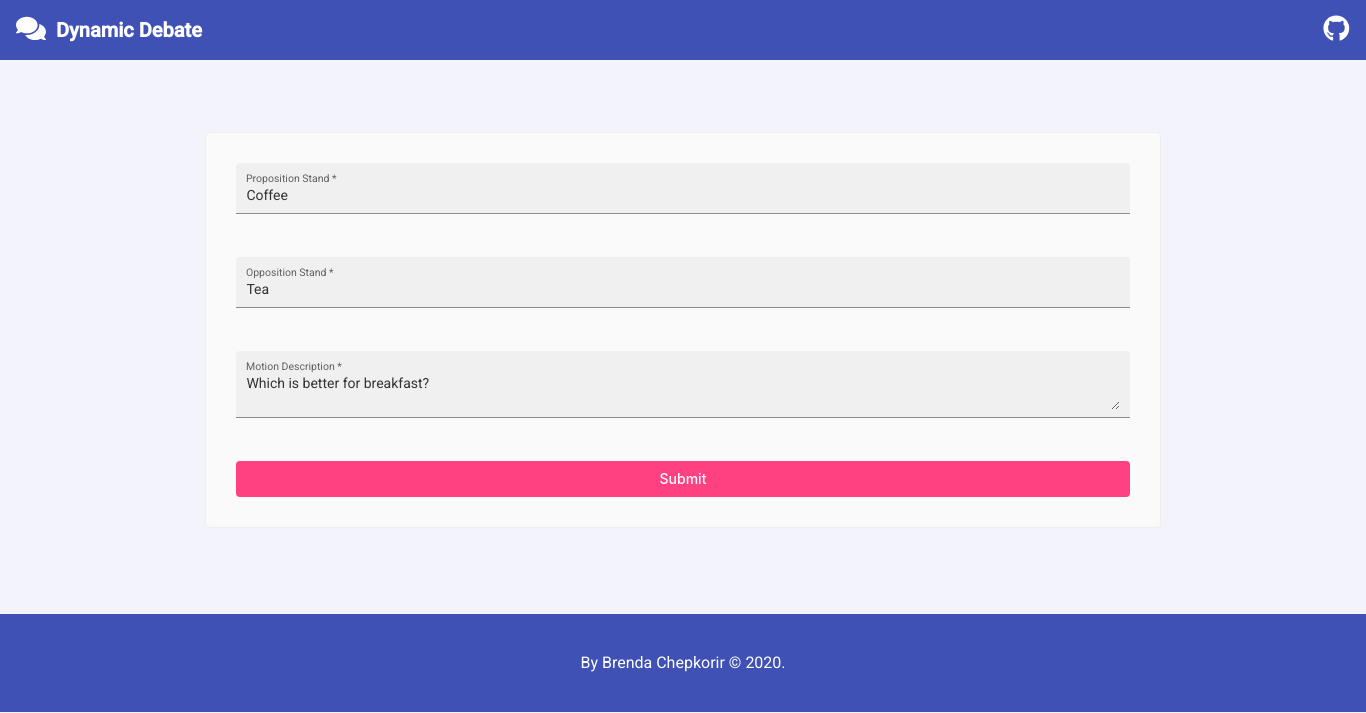
Debate app should › allow a user to pause the timer
Click the button with id "submit" at (683, 479), box [236, 461, 1130, 497]
(page scrolled)
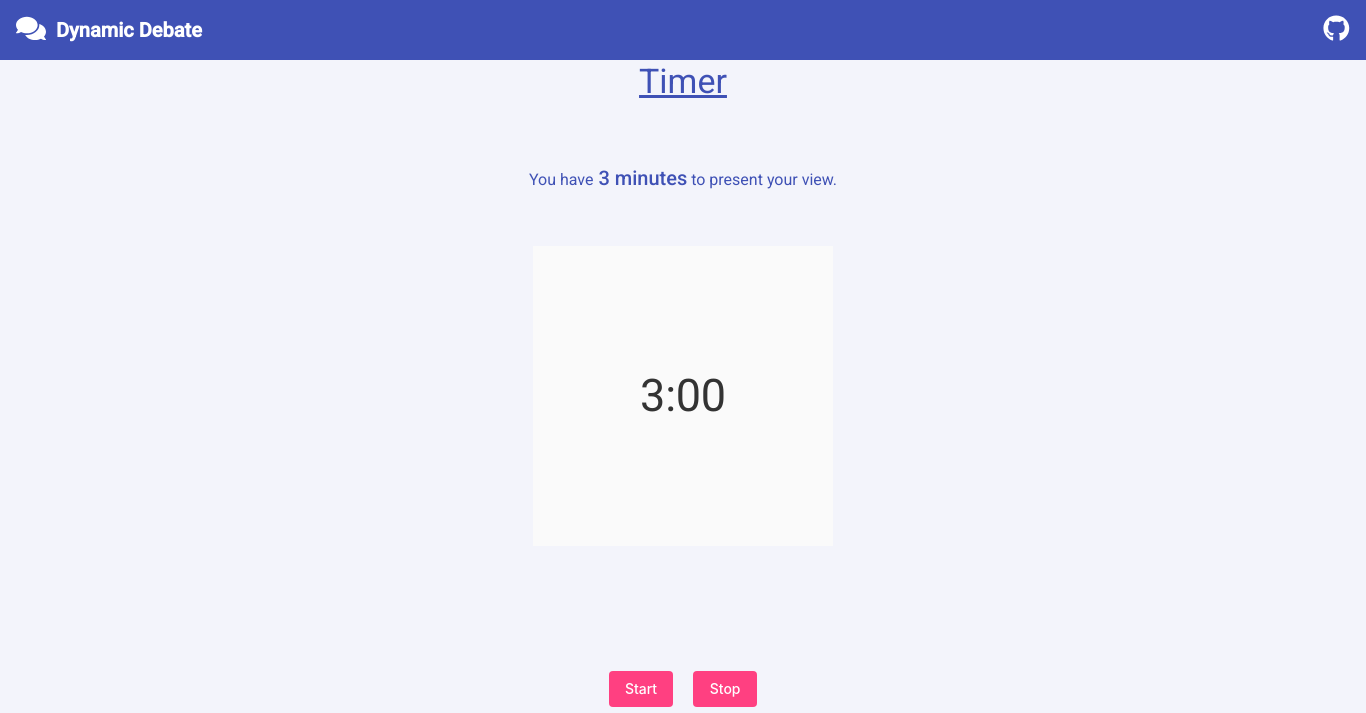
Result: the text with class "timer" reads "3:00" at [640, 369, 726, 422]
Result: the button "Start" is shown
Click the button "Start" at (641, 689), box [609, 671, 673, 707]
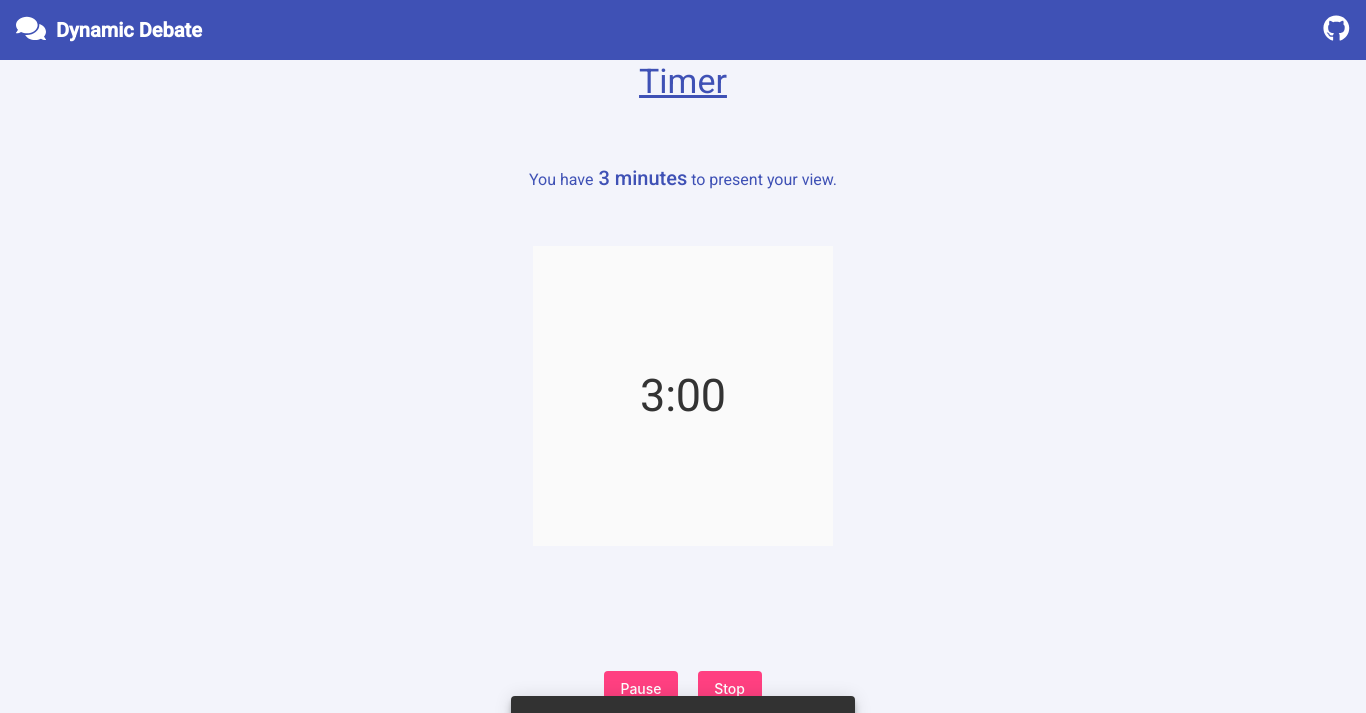
Scroll
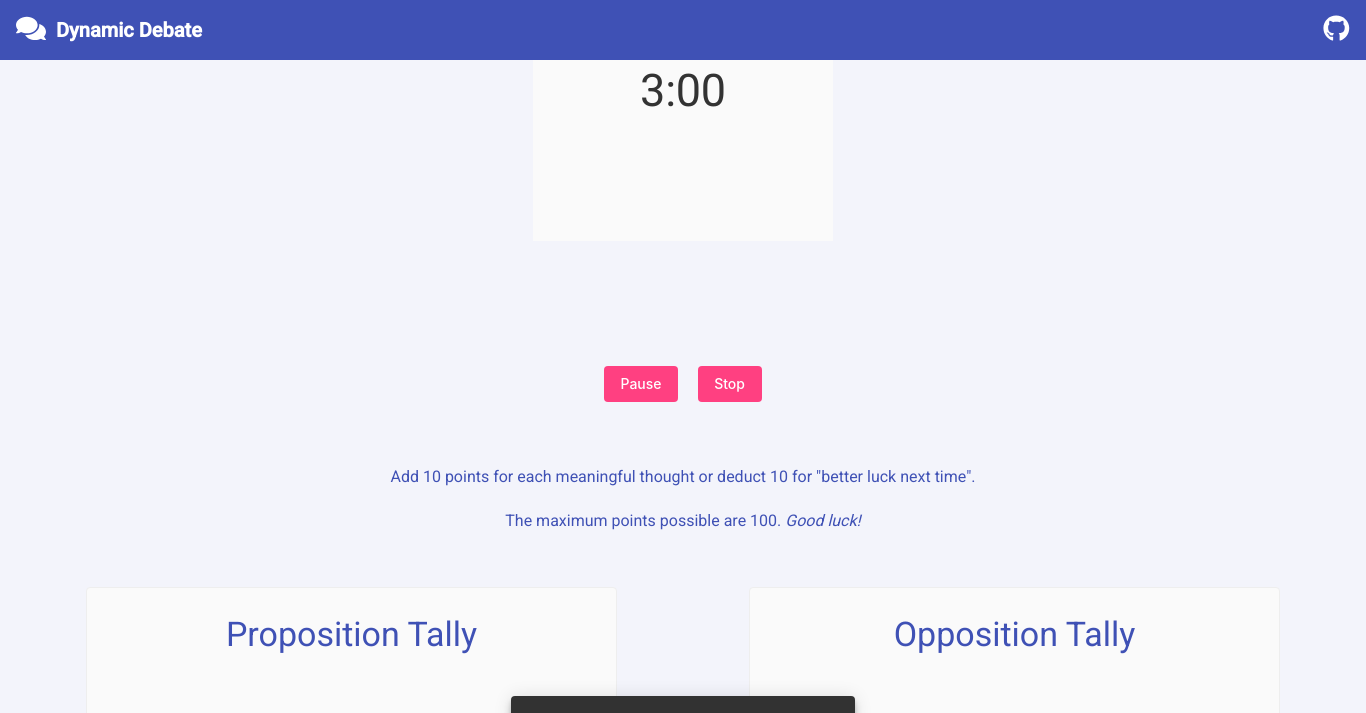
Click the button "Pause" at (642, 384), box [605, 366, 678, 402]
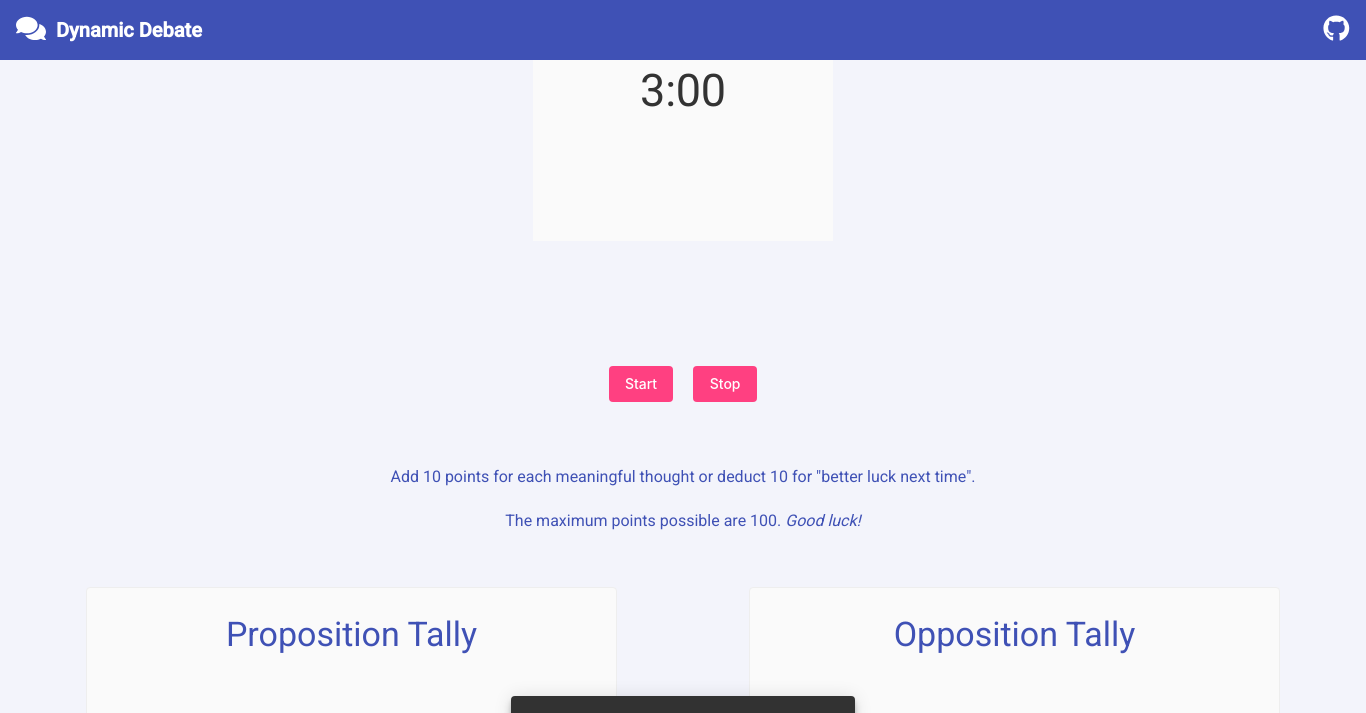
Result: the button "Start" is shown at [609, 366, 673, 402]
